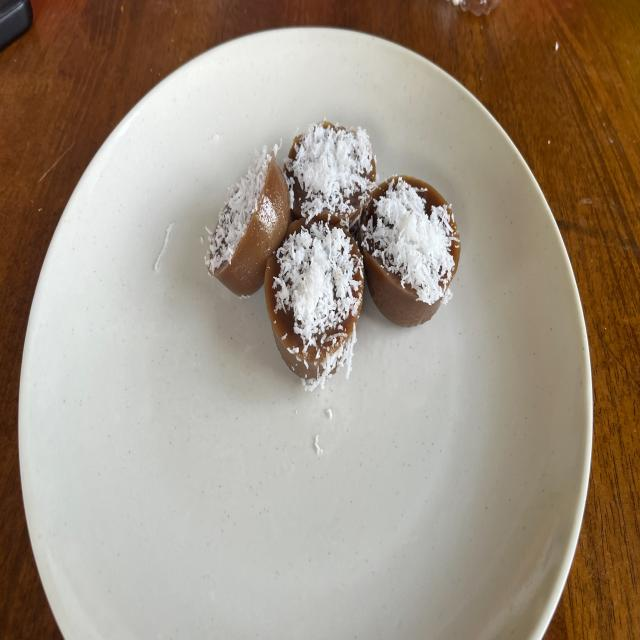Kuih lompang: (265, 213, 364, 389), (361, 176, 460, 327), (205, 147, 290, 296), (284, 122, 376, 231)
